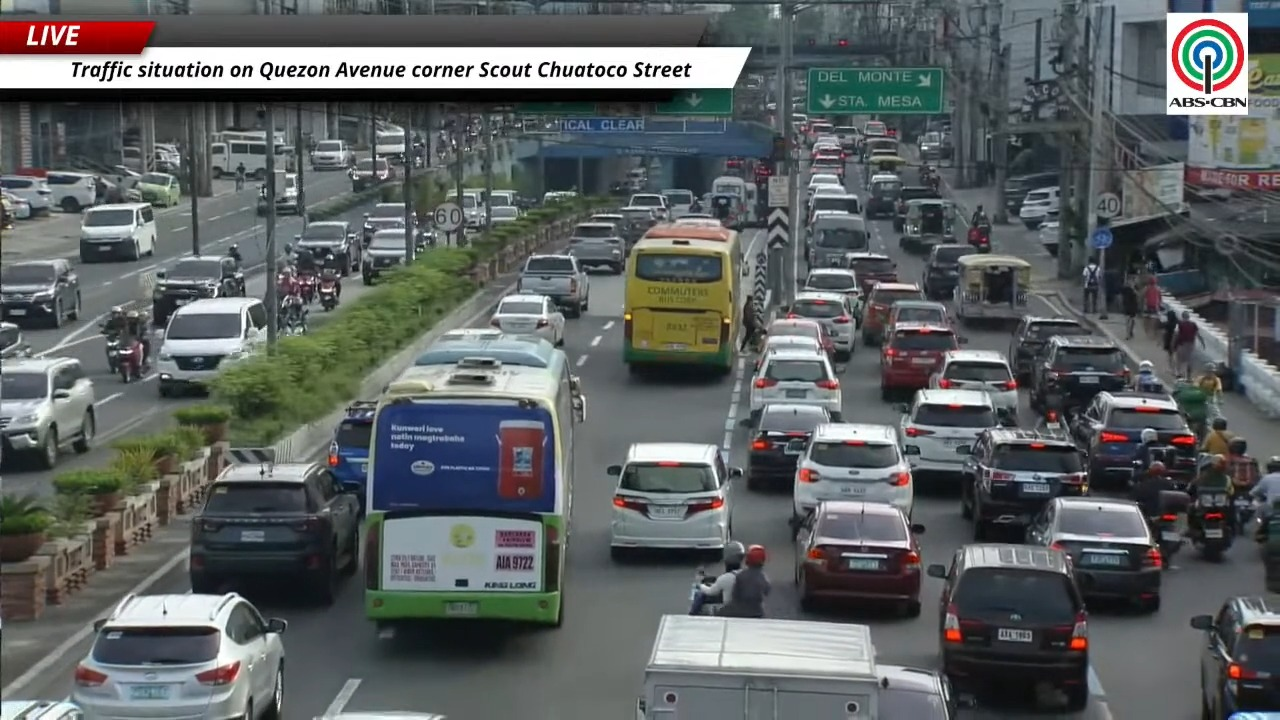bus: (364, 349, 585, 636), (623, 225, 745, 372), (711, 175, 763, 228), (209, 140, 266, 179), (211, 129, 266, 142)
car: (69, 593, 286, 719), (927, 543, 1088, 712), (189, 462, 359, 604), (607, 442, 742, 559), (1026, 497, 1163, 611), (794, 500, 924, 616), (960, 428, 1088, 539), (790, 422, 913, 528), (1069, 391, 1196, 487), (155, 297, 269, 396), (1190, 595, 1279, 719), (0, 357, 95, 468), (896, 390, 999, 483), (1030, 335, 1130, 408), (746, 403, 830, 489), (749, 349, 842, 426), (152, 256, 245, 326), (880, 322, 962, 400), (930, 349, 1018, 418), (1007, 316, 1091, 385), (0, 258, 81, 327), (876, 662, 972, 719), (327, 401, 376, 507), (786, 291, 856, 360), (804, 196, 869, 267), (79, 203, 157, 262), (861, 282, 924, 346), (490, 293, 564, 346), (295, 220, 362, 275), (802, 268, 861, 324), (922, 244, 976, 299), (765, 318, 833, 361), (568, 222, 624, 274), (842, 252, 897, 304), (361, 225, 408, 285), (754, 335, 827, 369), (1005, 172, 1059, 215), (45, 171, 99, 212), (893, 186, 940, 232), (886, 300, 952, 332), (0, 175, 52, 215), (801, 268, 860, 300), (1018, 186, 1060, 230), (804, 180, 848, 221), (362, 203, 404, 245), (619, 206, 658, 251), (806, 182, 849, 221), (0, 700, 84, 719), (866, 173, 901, 218), (348, 158, 395, 191), (136, 172, 180, 207), (310, 139, 354, 170), (433, 327, 505, 344), (0, 322, 30, 360), (627, 193, 669, 220), (661, 188, 694, 218), (811, 151, 845, 180), (0, 191, 31, 219), (807, 173, 842, 197), (1038, 219, 1059, 257), (588, 213, 626, 233), (672, 214, 722, 228), (488, 206, 521, 227), (811, 140, 843, 158)
motorcycle: (1188, 492, 1233, 560), (1148, 491, 1190, 562), (690, 567, 721, 614), (117, 338, 146, 383), (1035, 409, 1069, 438), (106, 336, 125, 375), (318, 276, 338, 311), (967, 224, 990, 252), (297, 272, 317, 304), (221, 278, 240, 296)
truck: (636, 614, 879, 719), (517, 254, 588, 317)
